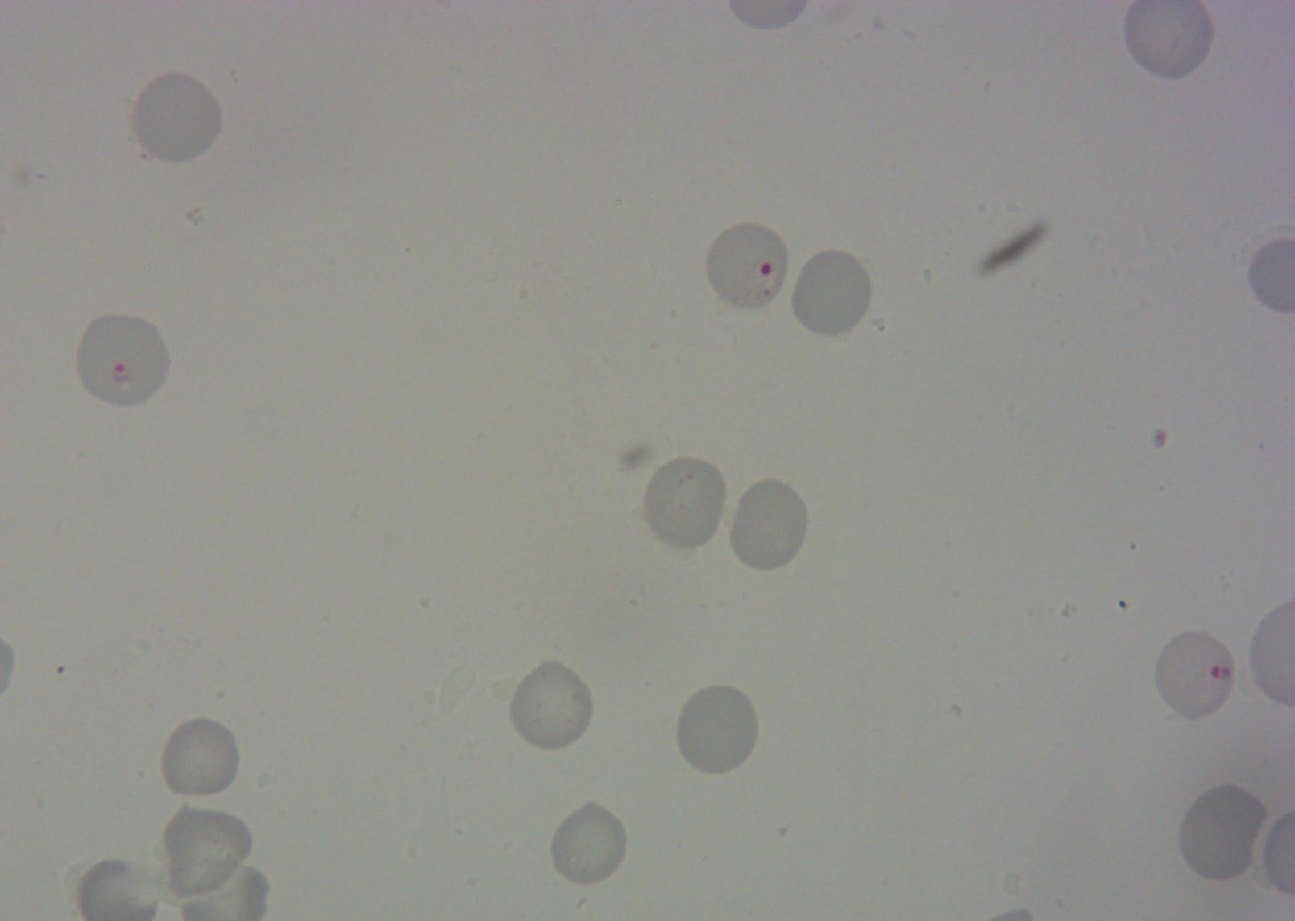Infected: (73, 313, 180, 407), (707, 216, 789, 315), (1153, 634, 1240, 716)
Uninfected: (1174, 782, 1272, 885), (157, 804, 252, 898), (505, 657, 597, 753), (131, 70, 224, 164), (671, 682, 763, 777), (640, 455, 731, 550), (724, 476, 813, 573), (788, 245, 877, 340), (155, 713, 243, 801), (546, 799, 632, 889)
